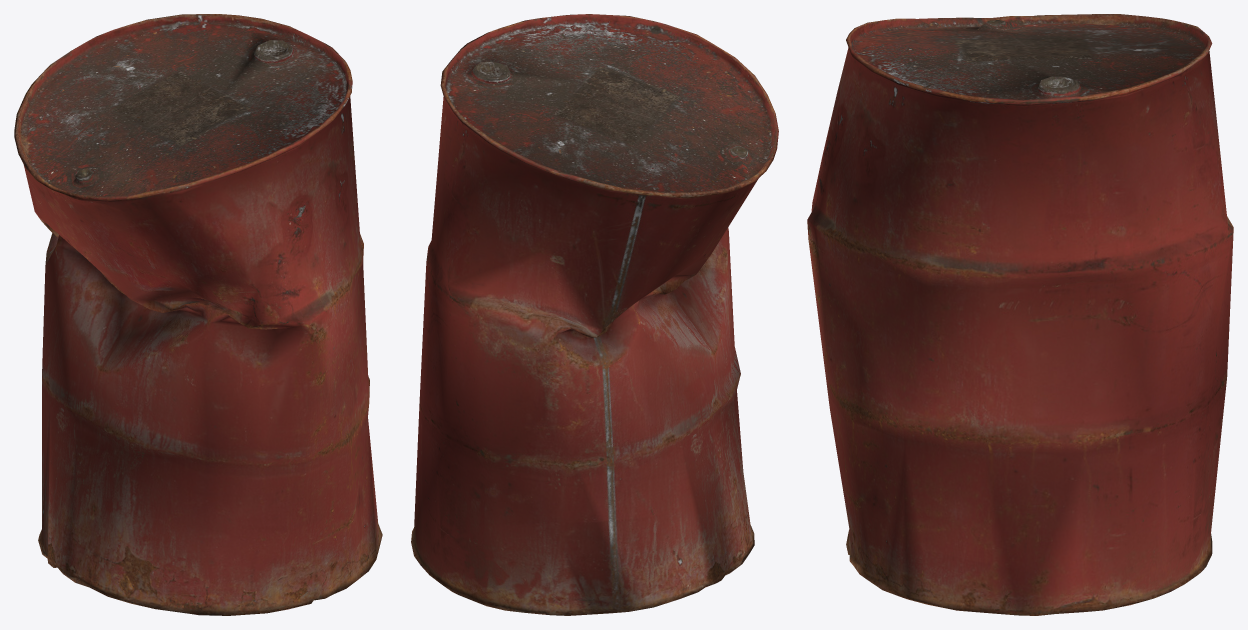
File: rusty_metal_barrel.glb
The picture shows the model from 3 angles, left to right: view 1: azimuth 30°, elevation 25°; view 2: azimuth 150°, elevation 25°; view 3: azimuth 270°, elevation 25°; orthographic projection. The views are drawn at different scales.
Visible parts, largest first — view 1: tewscfuda_LOD0_TIER3_000; view 2: tewscfuda_LOD0_TIER3_000; view 3: tewscfuda_LOD0_TIER3_000.
Boxes of the visible parts, <box> form: tewscfuda_LOD0_TIER3_000: <box>14,14,382,615</box>; tewscfuda_LOD0_TIER3_000: <box>411,14,778,615</box>; tewscfuda_LOD0_TIER3_000: <box>807,14,1233,615</box>.
Size of the model in its own units: 0.6198 by 0.8756 by 0.6641.
1 material, 1 textured.
